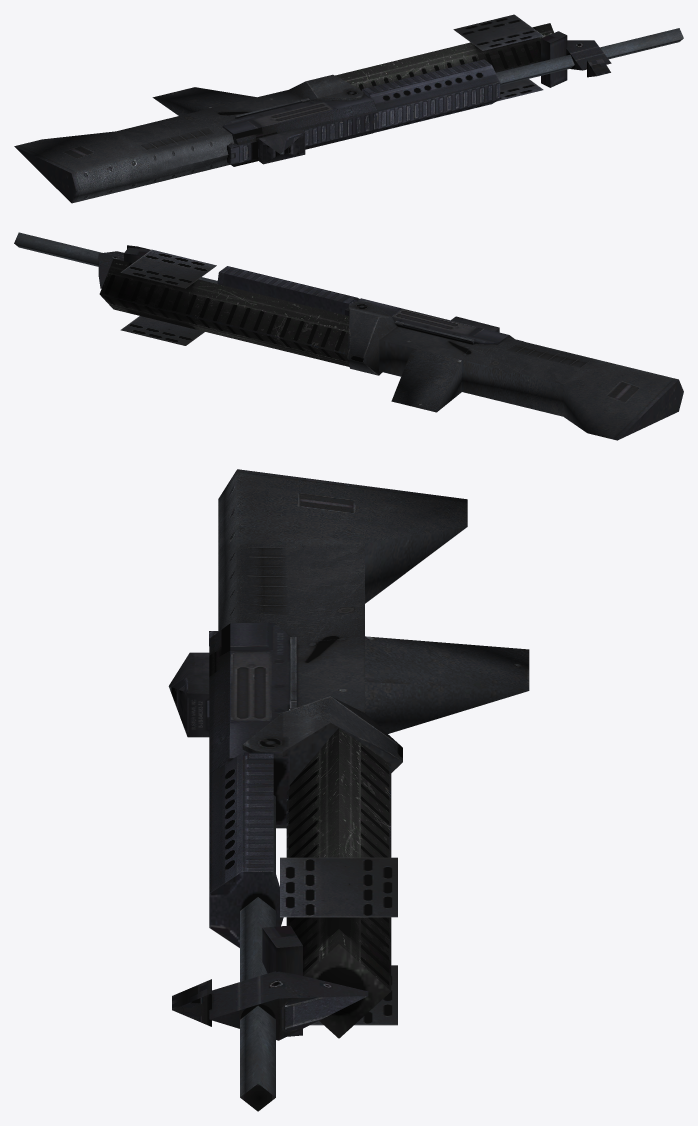
Rendered from t6_wpn_shotty_srm1216_world_LOD2.obj.
3 views of the same model, one above another, from view 1: azimuth 30°, elevation 25°; view 2: azimuth 150°, elevation 25°; view 3: azimuth 270°, elevation 25° (orthographic). The views are drawn at different scales.
Visible parts, largest first — view 1: mtl_t6_wpn_shotty_srm1216_camo1, mtl_t6_wpn_shotty_srm1216_camo2, mtl_t6_wpn_shotty_srm1216_camo4, mtl_t6_wpn_shotty_srm1216_camo3; view 2: mtl_t6_wpn_shotty_srm1216_camo1, mtl_t6_wpn_shotty_srm1216_camo3, mtl_t6_wpn_shotty_srm1216_camo2, mtl_t6_wpn_shotty_srm1216_camo4; view 3: mtl_t6_wpn_shotty_srm1216_camo1, mtl_t6_wpn_shotty_srm1216_camo3, mtl_t6_wpn_shotty_srm1216_camo2, mtl_t6_wpn_shotty_srm1216_camo4.
Boxes of the visible parts, bbox=[...] form: mtl_t6_wpn_shotty_srm1216_camo1: bbox=[14, 14, 611, 203]; mtl_t6_wpn_shotty_srm1216_camo2: bbox=[222, 28, 683, 166]; mtl_t6_wpn_shotty_srm1216_camo4: bbox=[239, 31, 567, 162]; mtl_t6_wpn_shotty_srm1216_camo3: bbox=[335, 23, 553, 90]; mtl_t6_wpn_shotty_srm1216_camo1: bbox=[98, 245, 683, 440]; mtl_t6_wpn_shotty_srm1216_camo3: bbox=[99, 258, 349, 366]; mtl_t6_wpn_shotty_srm1216_camo2: bbox=[14, 232, 509, 344]; mtl_t6_wpn_shotty_srm1216_camo4: bbox=[98, 247, 357, 305]; mtl_t6_wpn_shotty_srm1216_camo1: bbox=[172, 469, 529, 1040]; mtl_t6_wpn_shotty_srm1216_camo3: bbox=[286, 728, 391, 1038]; mtl_t6_wpn_shotty_srm1216_camo2: bbox=[168, 622, 289, 1111]; mtl_t6_wpn_shotty_srm1216_camo4: bbox=[262, 925, 367, 1040].
Bounding box in the file's own units: 84.17 × 7.15 × 21.44.
